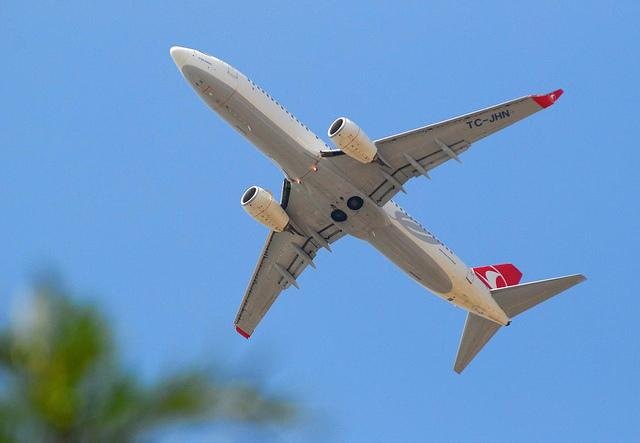airplane: (165, 42, 590, 376)
